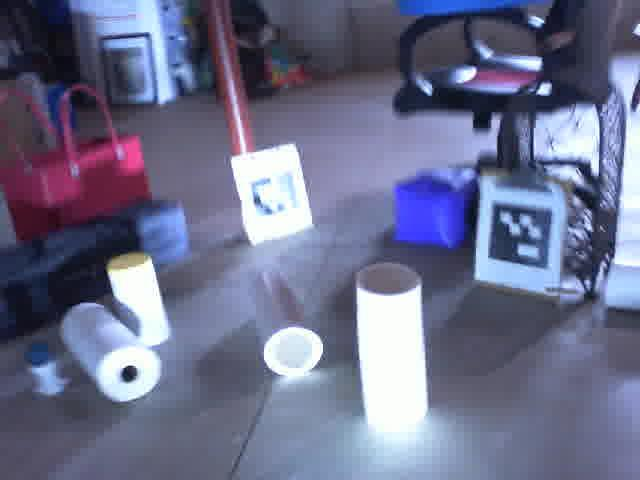coral: (351, 258, 430, 440), (245, 264, 330, 381)
